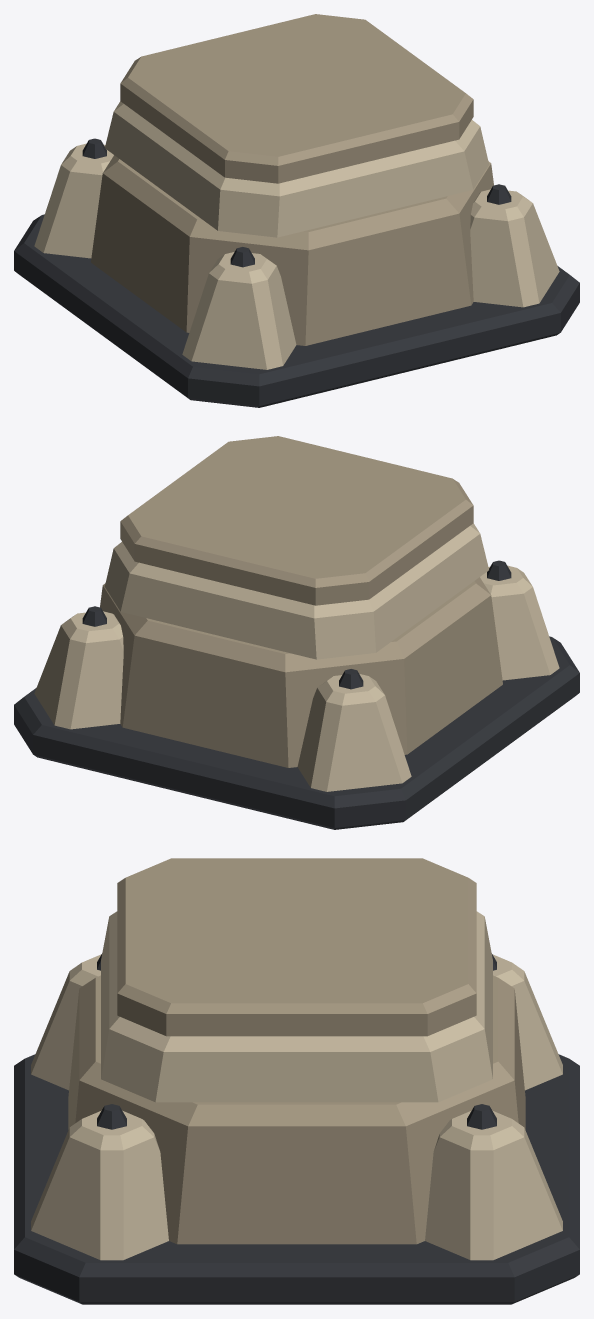
File: TeslaBase.obj
3 renders of one model, top to bottom at view 1: azimuth 30°, elevation 25°; view 2: azimuth 150°, elevation 25°; view 3: azimuth 270°, elevation 25°, orthographic. The views are drawn at different scales.
Visible parts, largest first — view 1: TeslaBase; view 2: TeslaBase; view 3: TeslaBase.
Part boxes in pixels (<box>): TeslaBase: <box>14,14,579,407</box>; TeslaBase: <box>14,436,579,829</box>; TeslaBase: <box>14,858,579,1304</box>.
Bounding box in the file's own units: 1.04 × 0.52 × 1.04.
